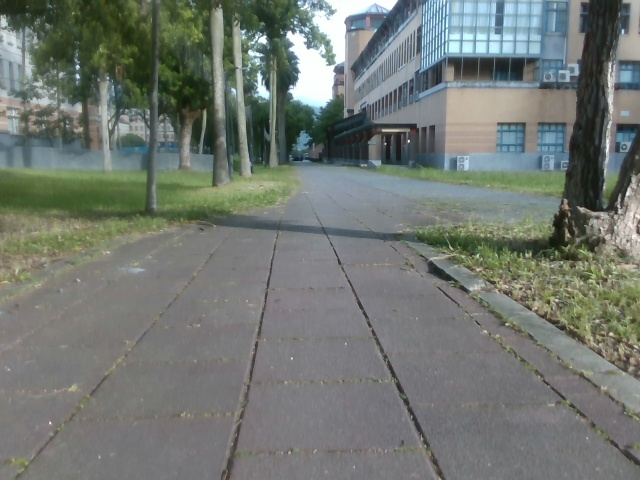grass: (0, 0, 342, 214), (359, 166, 639, 410), (0, 165, 302, 294), (552, 0, 639, 266)
road: (0, 162, 639, 479)
